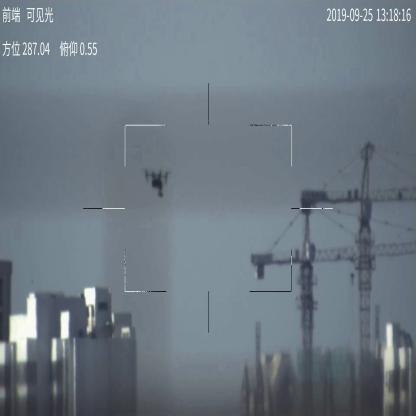uav: (144, 168, 170, 198)
